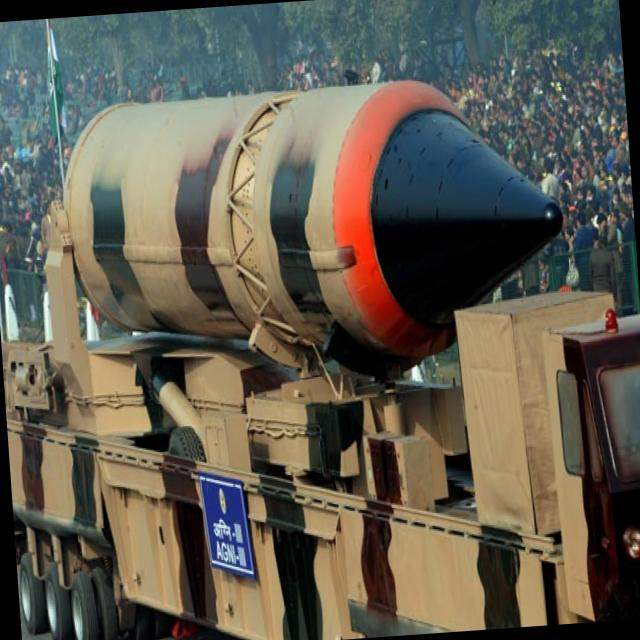rocket: (60, 84, 573, 363)
